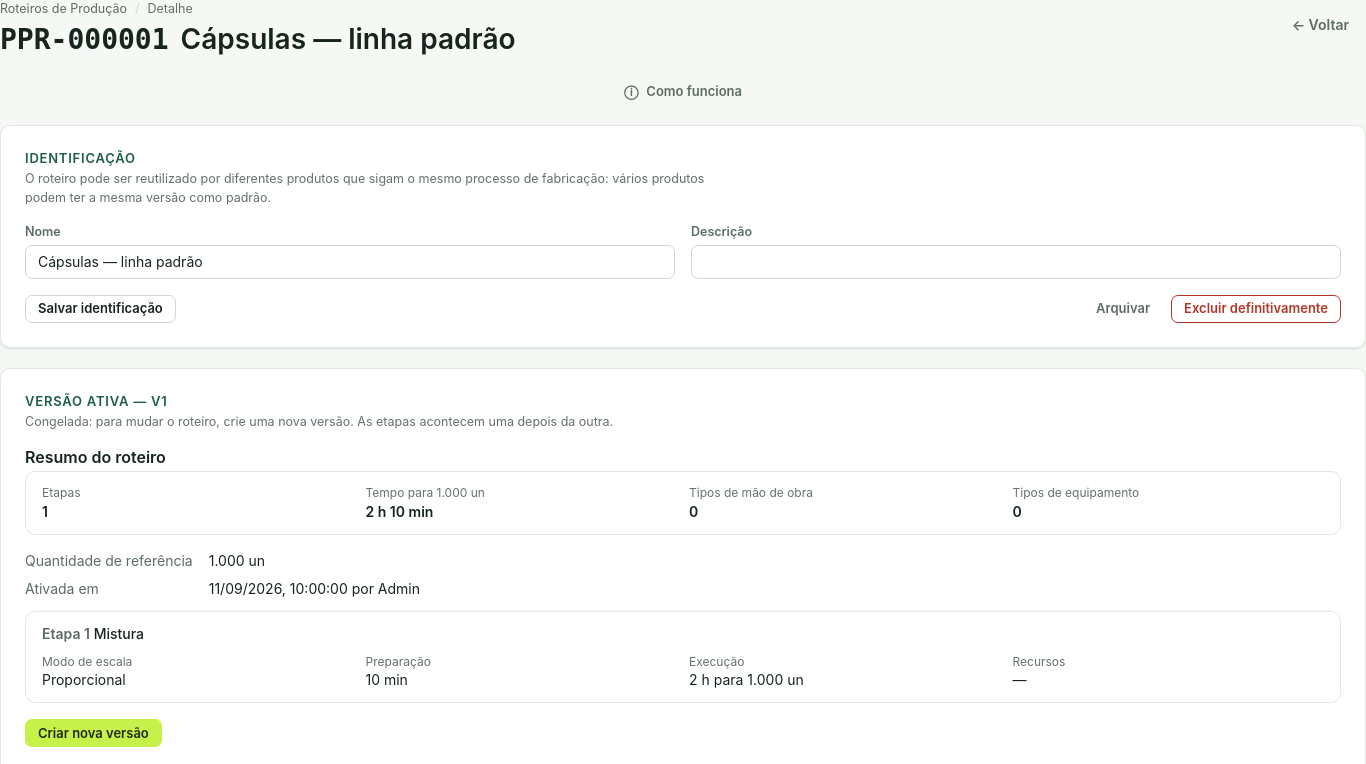
Scenario: Roteiro de Produção — Arquivar e Desarquivar › Arquivar confirma dizendo o efeito nos produtos, grava e marca "Arquivado"
This screenshot has width=1366, height=764.
Expected: the heading "PPR-000001 Cápsulas — linha padrão" is shown, [0, 22, 516, 57]
Expected: the text "Arquivado" is not shown
Click the button "Arquivar".
click(1123, 309)  # box [1083, 295, 1163, 323]
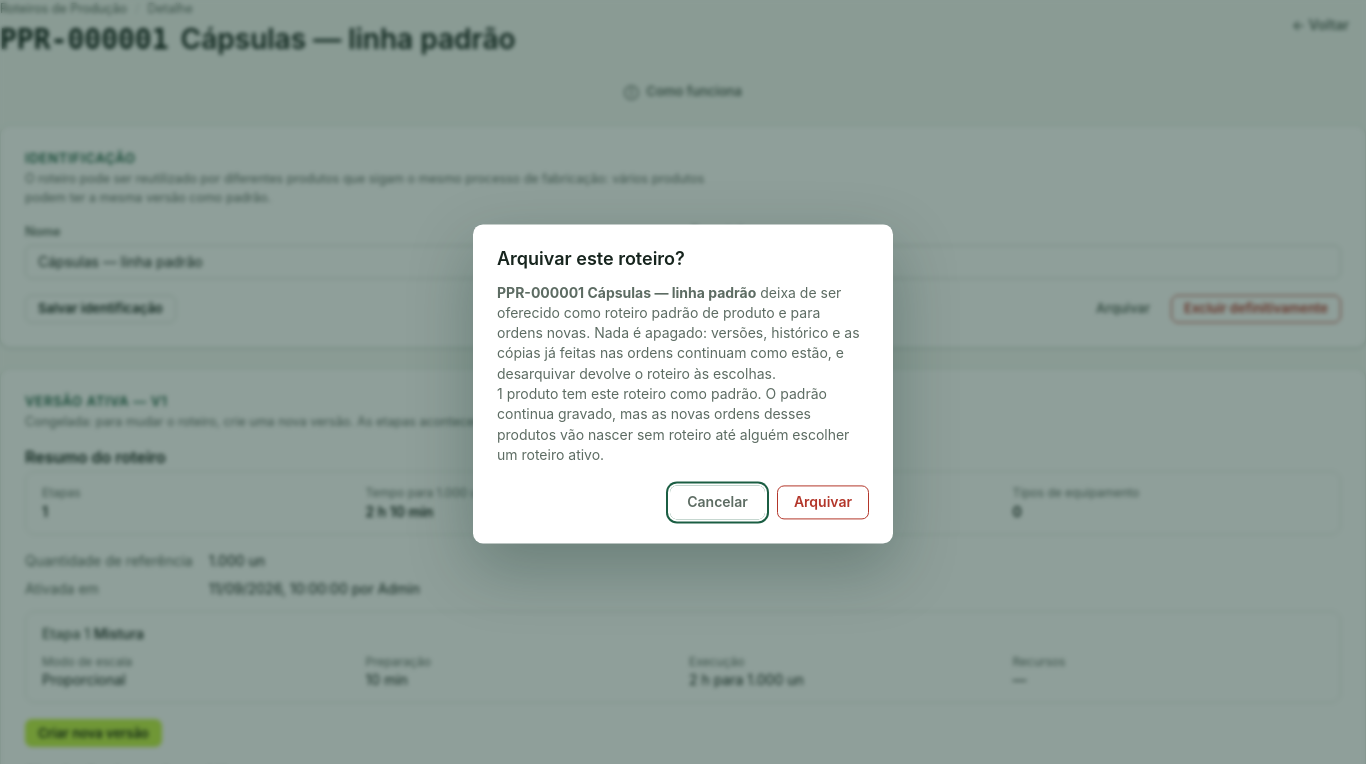
Expected: the dialog "Arquivar este roteiro?" shows "1 produto tem este roteiro como padrão.", [497, 385, 762, 402]
Expected: the dialog "Arquivar este roteiro?" shows "as novas ordens desses produtos vão nascer sem roteiro", [497, 385, 849, 463]
Expected: the dialog "Arquivar este roteiro?" shows "Nada é apagado", [497, 284, 860, 382]
Click the button "Arquivar".
click(823, 503)  # box [777, 486, 869, 520]
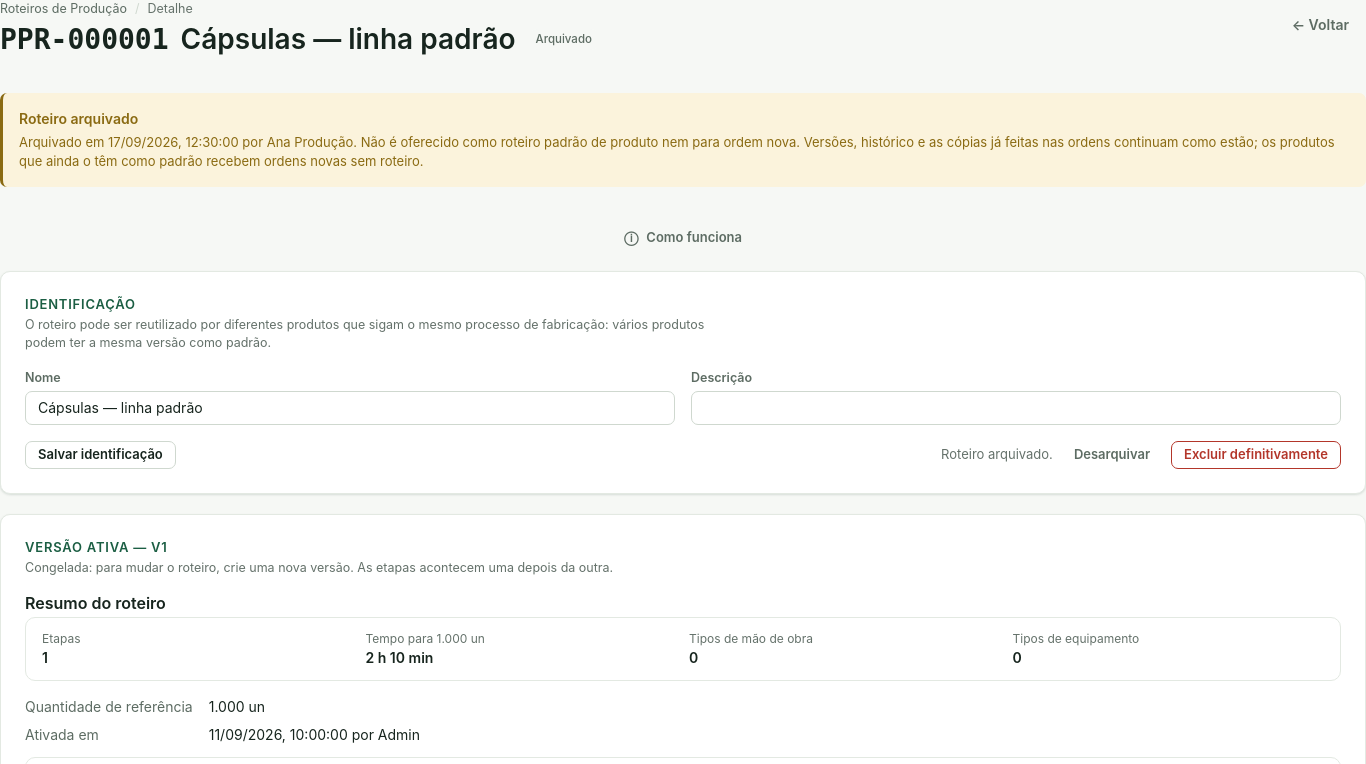
Expected: the text "Roteiro arquivado." is shown, [941, 445, 1053, 464]
Expected: the text "Arquivado" is shown, [528, 29, 600, 50]
Expected: the button "Desarquivar" is shown, [1061, 441, 1163, 469]
